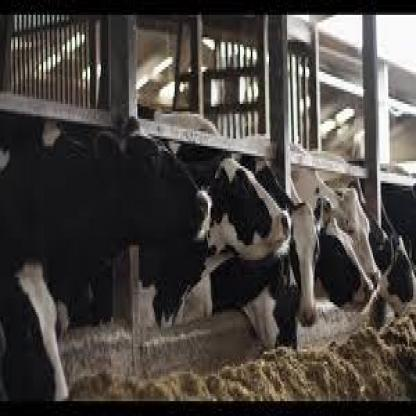cow: (0, 110, 212, 333), (134, 153, 292, 322), (212, 156, 322, 329), (289, 165, 384, 291), (344, 173, 416, 319), (0, 261, 69, 402), (316, 219, 376, 311)
